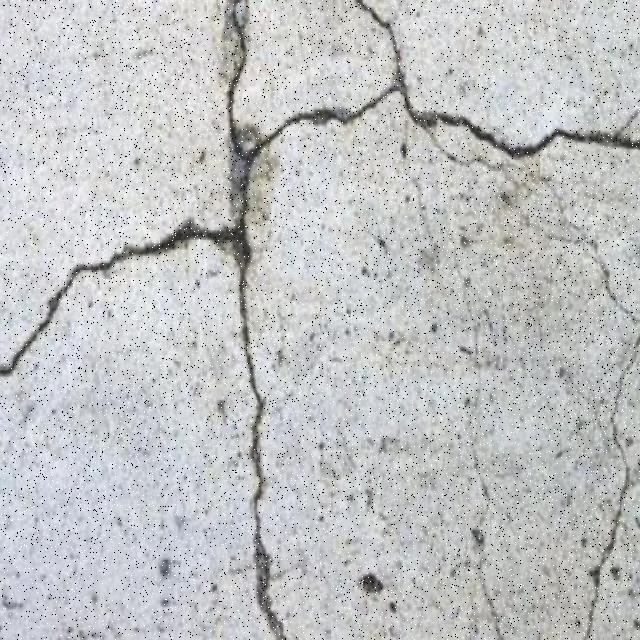Crack: (0, 0, 640, 639), (582, 338, 639, 639), (553, 235, 640, 327)
